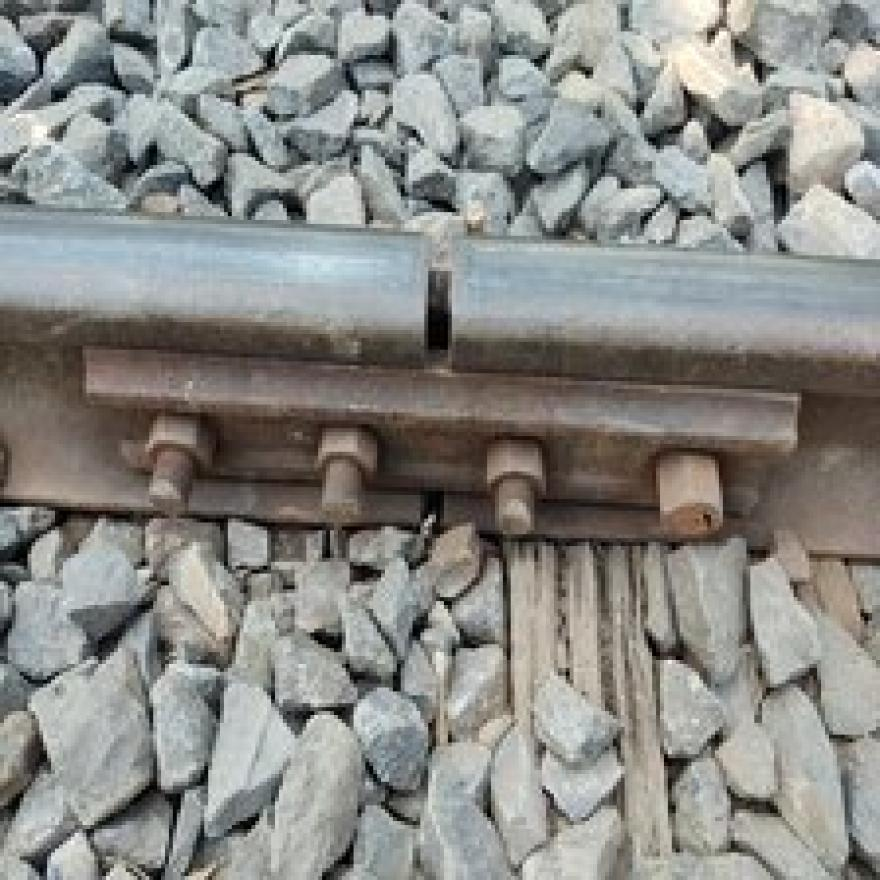railway-gap: (334, 186, 542, 407), (388, 466, 472, 559)
